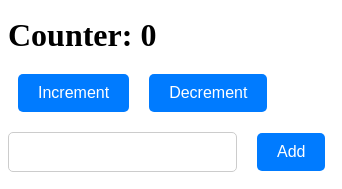
Test: Counter › should increase and decrease count by buttons
expect the heading reads "Counter: 0": met, box [8,16,156,52]
Click the button "Increment" at (74, 92), box [18,74,129,112]
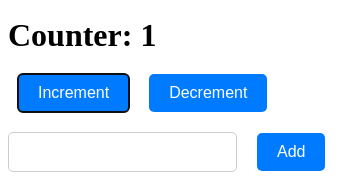
expect the heading reads "Counter: 1": met, box [8,16,156,52]
Click the button "Decrement" at (208, 92), box [149,74,267,112]
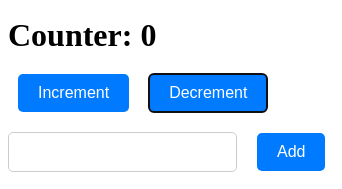
expect the heading reads "Counter: 0": met, box [8,16,156,52]
